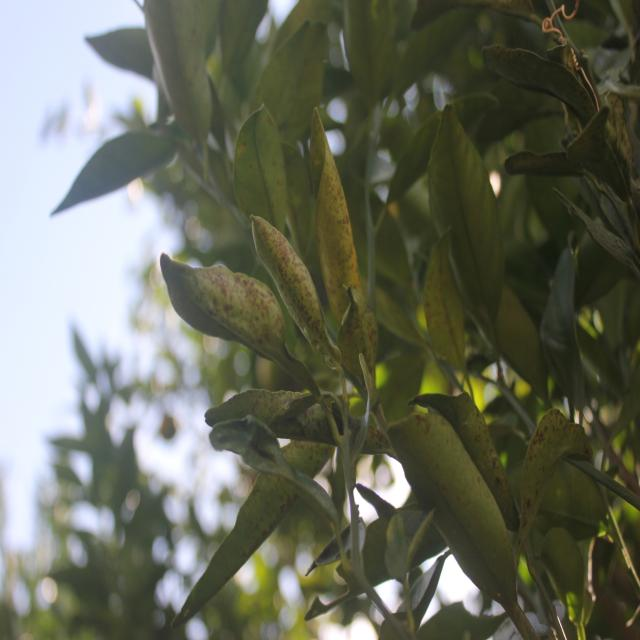melanose: (204, 438, 332, 588), (406, 382, 514, 547), (305, 116, 377, 351), (153, 248, 287, 366), (510, 410, 595, 554), (230, 385, 384, 460), (249, 220, 330, 346)
